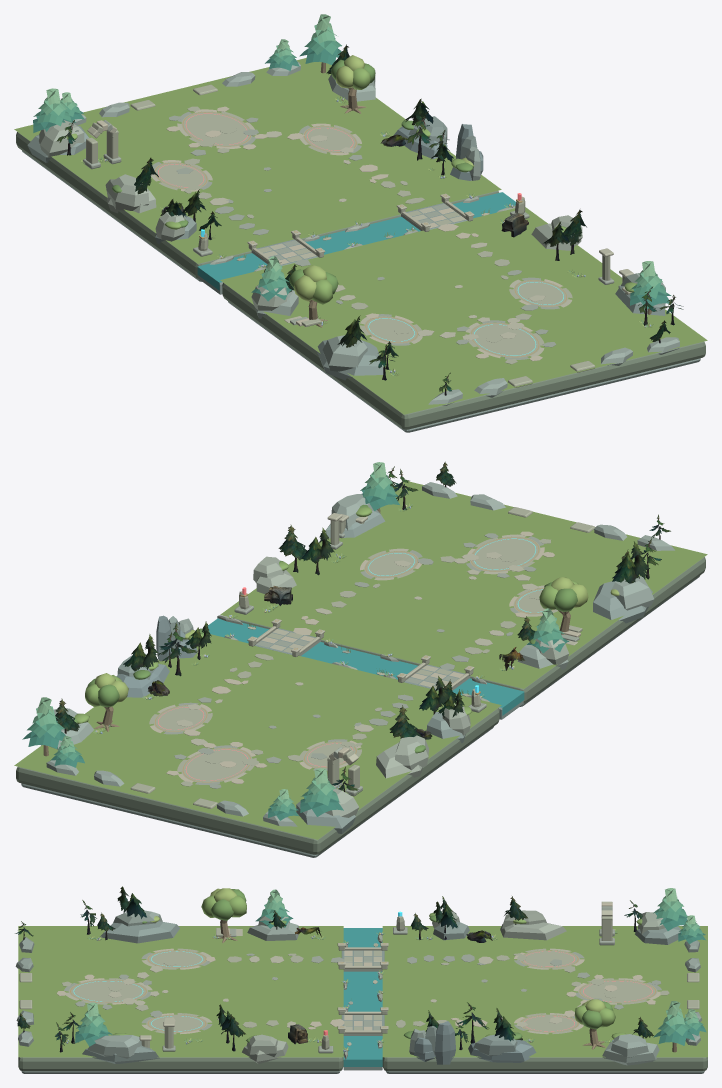
File: rift_arena.glb
3 renders of one model, top to bottom at view 1: azimuth 30°, elevation 25°; view 2: azimuth 150°, elevation 25°; view 3: azimuth 270°, elevation 25°, orthographic. The views are drawn at different scales.
Parts seen in each view (by area): view 1: Terrain__RiftGround, Terrain__RiftSoil, Foundations__RiftStone_0, Cliff_strata__RiftRock_1, Cliff_strata__RiftRock_2, RiverSurface__RiftWater, Cliff_strata__RiftRock_0, Relics__RiftStone_0, Terrain__RiftRock_0, Source_woodland__LoLSource_forest_south.002, Source_woodland__LoLSource_rock_woodland, Canopy__RiftPine_1 (+16 smaller); view 2: Terrain__RiftGround, Terrain__RiftSoil, Foundations__RiftStone_0, Cliff_strata__RiftRock_1, Cliff_strata__RiftRock_2, RiverSurface__RiftWater, Cliff_strata__RiftRock_0, Source_woodland__LoLSource_forest_south.002, Source_woodland__LoLSource_rock_woodland, Relics__RiftStone_0, Terrain__RiftRock_0, Canopy__RiftPine_0 (+15 smaller); view 3: Terrain__RiftGround, Terrain__RiftSoil, Foundations__RiftStone_0, Cliff_strata__RiftRock_1, Cliff_strata__RiftRock_0, RiverSurface__RiftWater, Cliff_strata__RiftRock_2, Terrain__RiftRock_0, Cliff_strata__RiftRock_3, Source_woodland__LoLSource_forest_south.002, Relics__RiftStone_0, Source_woodland__LoLSource_rock_woodland (+23 smaller).
Boxes of the visible parts, <box> form: Terrain__RiftGround: <box>14,58,707,414</box>; Terrain__RiftSoil: <box>16,132,705,429</box>; Foundations__RiftStone_0: <box>154,111,572,357</box>; Cliff_strata__RiftRock_1: <box>72,61,679,405</box>; Cliff_strata__RiftRock_2: <box>38,120,582,310</box>; RiverSurface__RiftWater: <box>197,192,515,290</box>; Cliff_strata__RiftRock_0: <box>27,116,665,380</box>; Relics__RiftStone_0: <box>86,84,628,387</box>; Terrain__RiftRock_0: <box>22,150,700,432</box>; Source_woodland__LoLSource_forest_south.002: <box>162,98,569,347</box>; Source_woodland__LoLSource_rock_woodland: <box>134,44,670,369</box>; Canopy__RiftPine_1: <box>33,37,666,298</box>; Terrain__RiftGround: <box>14,481,707,839</box>; Terrain__RiftSoil: <box>16,557,705,854</box>; Foundations__RiftStone_0: <box>149,536,557,782</box>; Cliff_strata__RiftRock_1: <box>41,482,674,826</box>; Cliff_strata__RiftRock_2: <box>253,556,569,817</box>; RiverSurface__RiftWater: <box>208,618,524,715</box>; Cliff_strata__RiftRock_0: <box>117,509,653,833</box>; Source_woodland__LoLSource_forest_south.002: <box>123,527,649,717</box>; Source_woodland__LoLSource_rock_woodland: <box>55,461,628,737</box>; Relics__RiftStone_0: <box>130,507,595,808</box>; Terrain__RiftRock_0: <box>21,576,699,857</box>; Canopy__RiftPine_0: <box>22,489,569,820</box>; Terrain__RiftGround: <box>18,926,707,1057</box>; Terrain__RiftSoil: <box>18,1057,707,1071</box>; Foundations__RiftStone_0: <box>68,948,657,1034</box>; Cliff_strata__RiftRock_1: <box>15,910,702,1065</box>; Cliff_strata__RiftRock_0: <box>82,921,680,1063</box>; RiverSurface__RiftWater: <box>343,928,382,1066</box>; Cliff_strata__RiftRock_2: <box>242,910,664,1063</box>; Terrain__RiftRock_0: <box>21,1067,704,1073</box>; Cliff_strata__RiftRock_3: <box>414,1021,536,1064</box>; Source_woodland__LoLSource_forest_south.002: <box>117,886,515,1043</box>; Relics__RiftStone_0: <box>19,901,699,1049</box>; Source_woodland__LoLSource_rock_woodland: <box>17,896,653,1051</box>.
Size of the model in its own units: 24.07 by 5.54 by 50.09.
35 materials, 7 textured.
